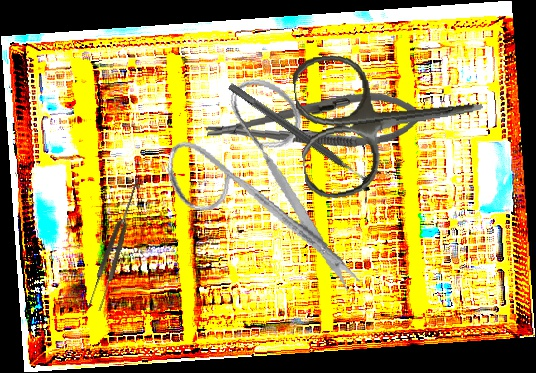Fixation Ring: (222, 74, 382, 195)
Iris Scissors: (150, 64, 397, 297), (290, 37, 492, 202)
Needle Holder: (204, 86, 426, 159)
Tissue Forceps: (85, 176, 147, 312)
